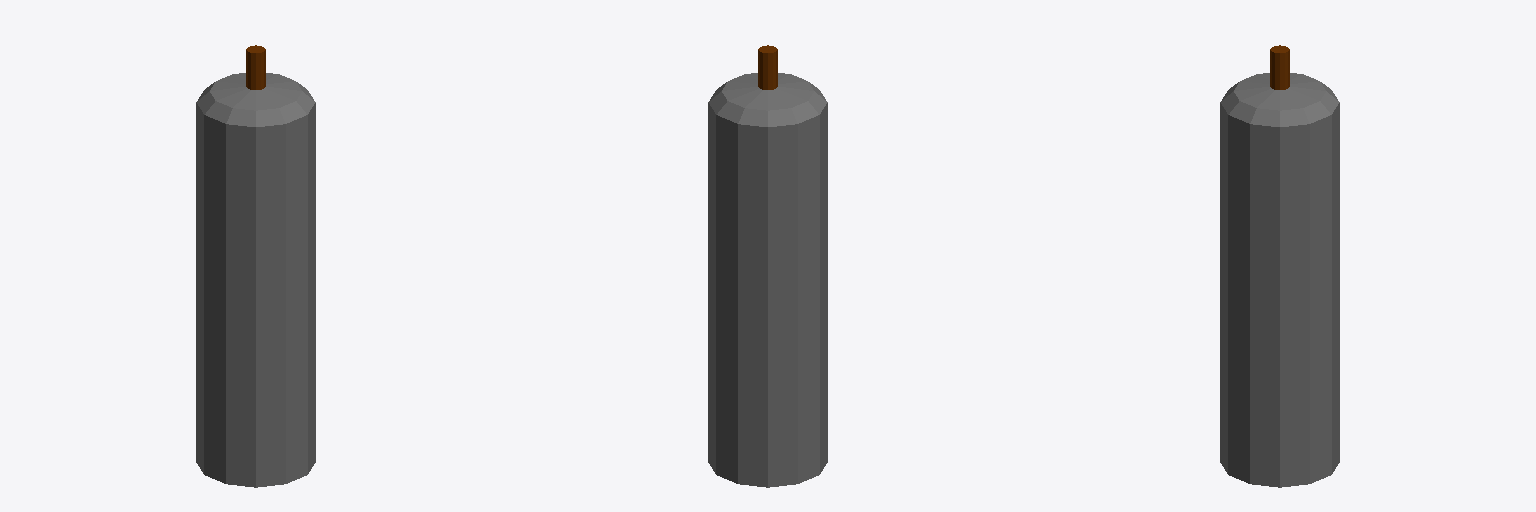
File: gastank.obj
The picture shows the model from 3 angles: view 1: azimuth 30°, elevation 25°; view 2: azimuth 150°, elevation 25°; view 3: azimuth 270°, elevation 25°; orthographic projection.
Parts seen in each view (by area): view 1: gastank; view 2: gastank; view 3: gastank.
Boxes of the visible parts, x1,y1,x2,y2 form: gastank: [196, 45, 315, 487]; gastank: [708, 45, 827, 487]; gastank: [1220, 45, 1339, 487].
Size of the model in its own units: 0.15 by 0.5734 by 0.15.